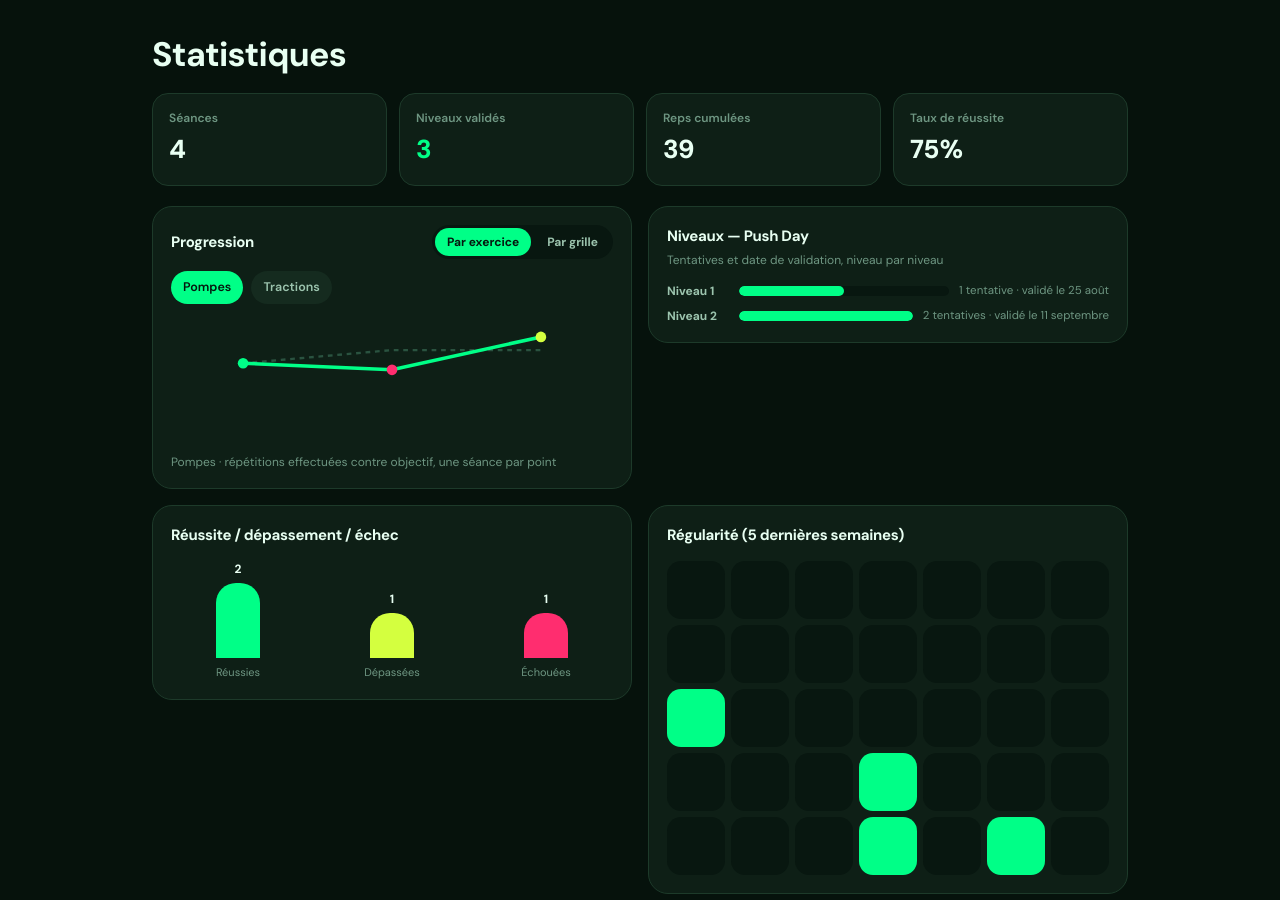
niveaux › suit la grille choisie dans la bascule
Click the button "Par grille": (573, 242) [535,228,610,256]
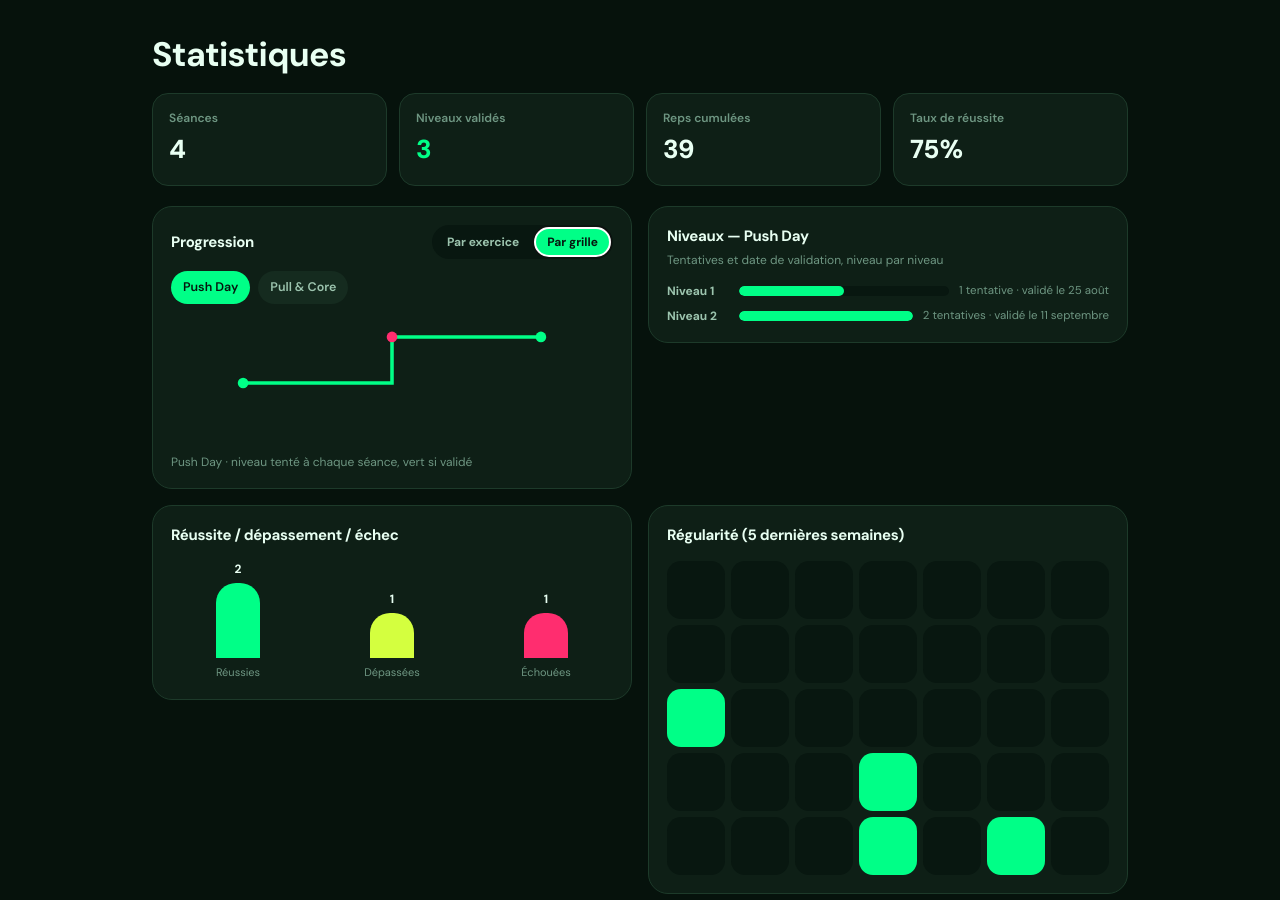
Click the button "Pull & Core": (303, 288) [258,271,348,304]
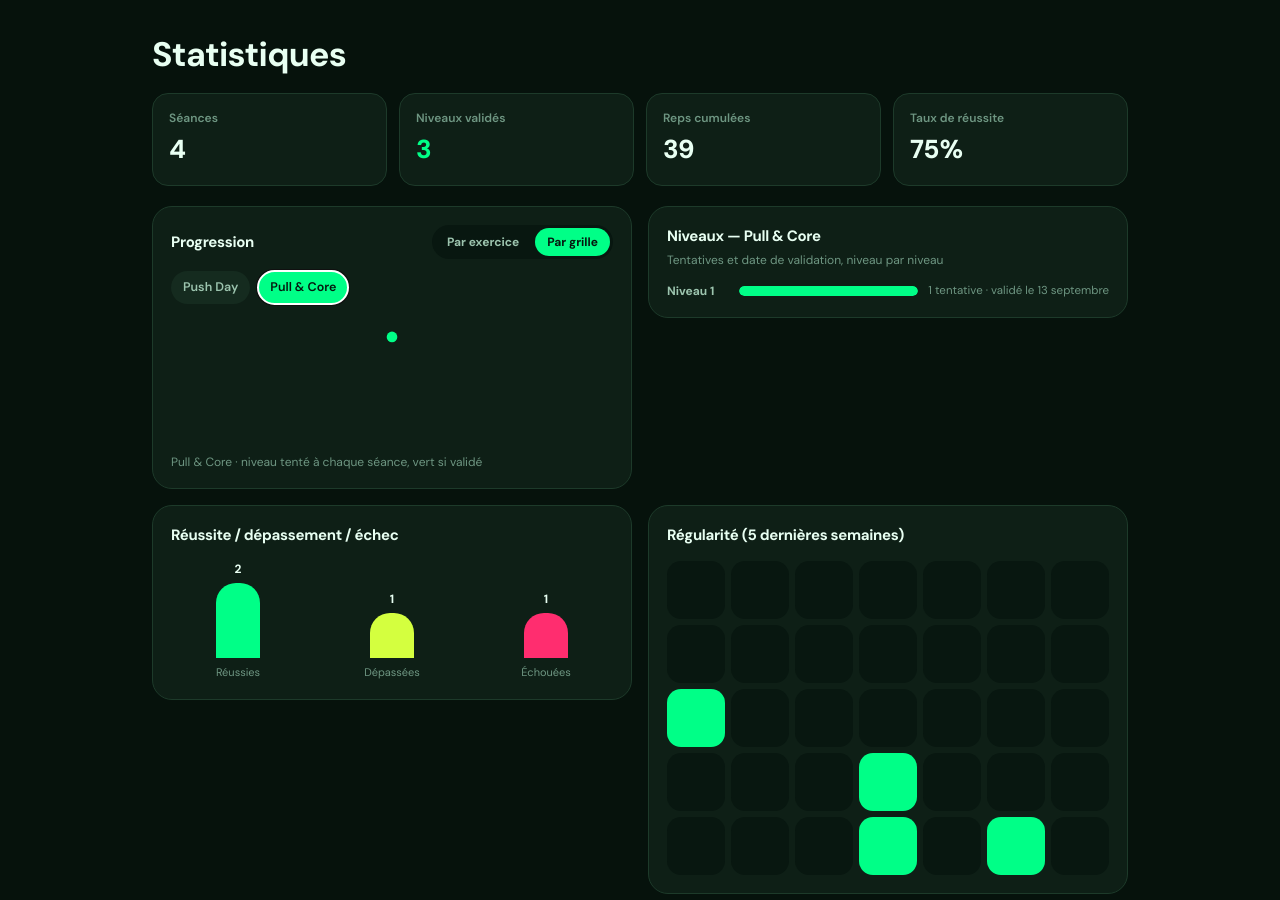
Expected: the heading "Niveaux — Pull & Core" is shown, [667,226,821,246]
